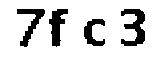3: (117, 5, 151, 52)
7: (11, 5, 48, 48)
c: (78, 16, 111, 54)
f: (46, 7, 72, 50)
